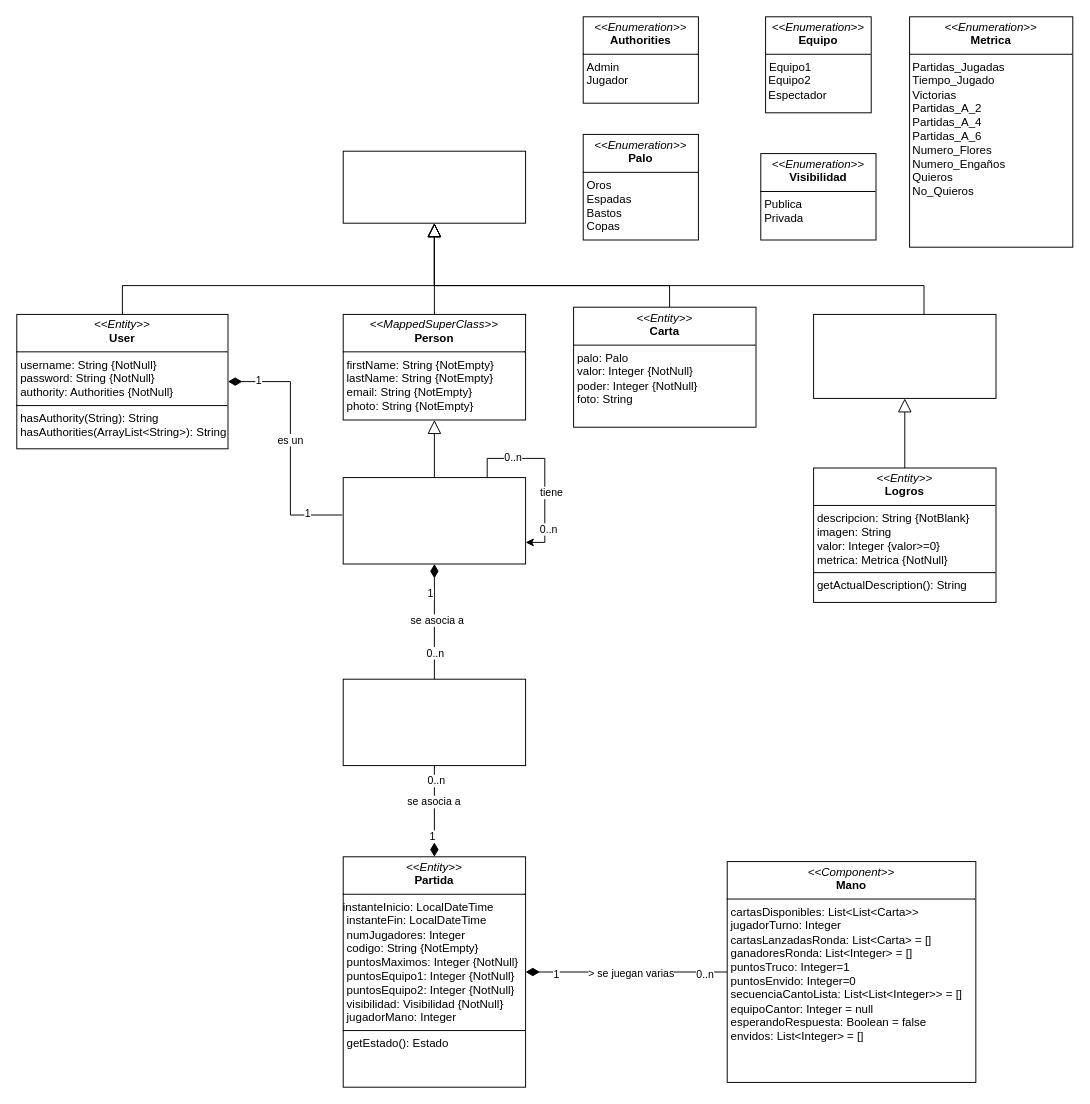
Image size: 1090x1104. Some labels were removed from this diagram. Each missing label, with the centre of its shape:
<<Entity>> Jugador amigos: List<Jugador>: pixel 434 520
<<Entity>> PartidaJugador equipo: Equipo {NotNull} posicion: Integer {NotNull}: pixel 434 722
<<MappedSuperClass>> BaseEntity id: Integer: pixel 434 186
<<MappedSuperClass>> NamedEntity name: String {length>3, length<50}: pixel 904 355
